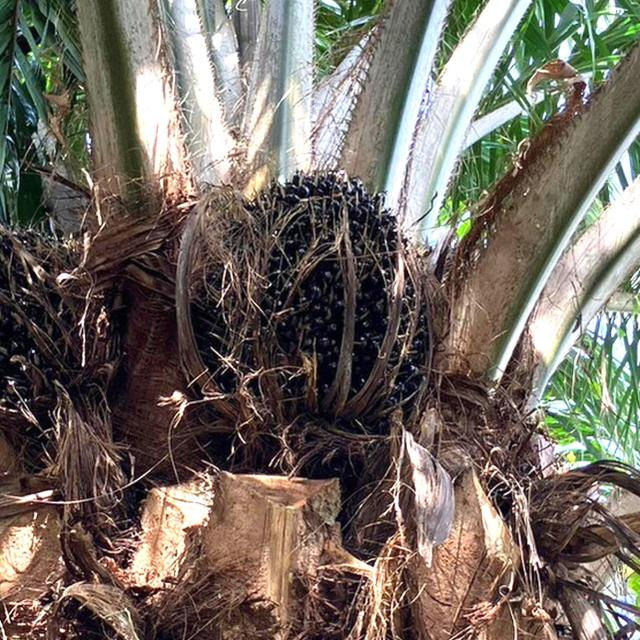unripe: (215, 174, 435, 440)
